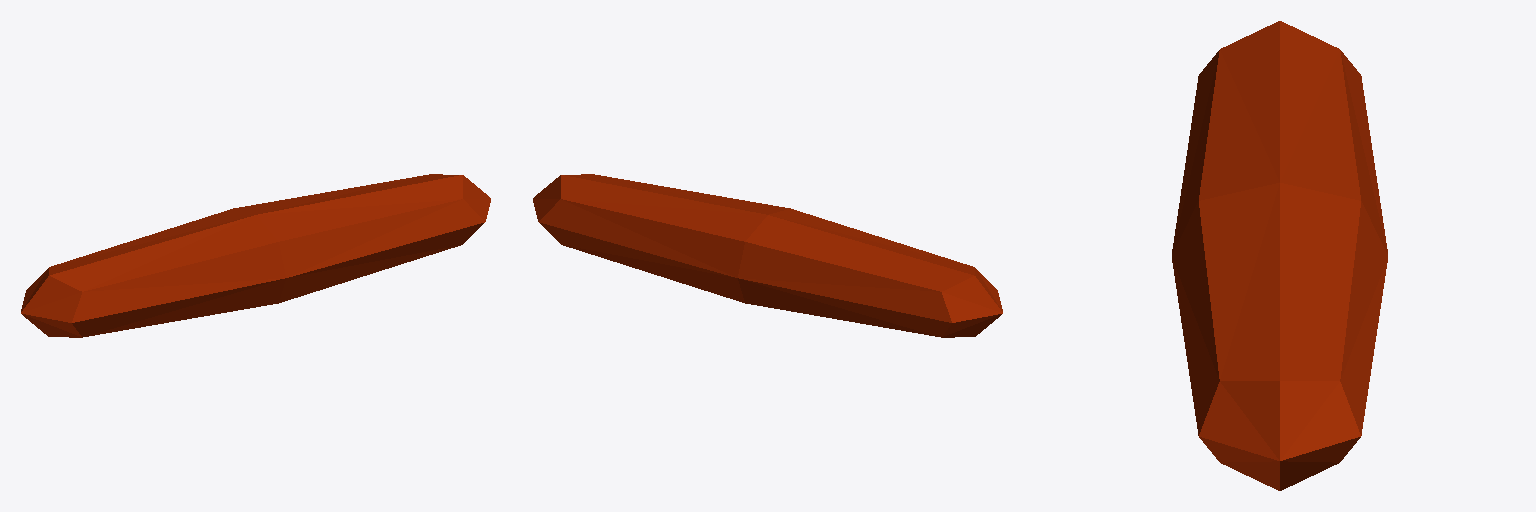
URDF robot description (bread):
<?xml version="1.0"?>

<robot name="bread">
  <link name="bread">
    <gravity>false</gravity>
    <inertial>
       <mass value="0.02"/>
       <inertia
        ixx="0.0007"
        ixy="0"
        ixz="0"
        iyy="0.0007"
        iyz="0"
        izz="0.007" />
    </inertial>
    <collision>
        <geometry><box size="0.0001 0.0001 0.0001" /></geometry>
          <surface>
            <contact>
              <collide_without_contact>true</collide_without_contact>
            </contact>
          </surface>
    </collision>
    <visual>
      <geometry>
        <mesh filename="package://pizza_demo/models/bread/meshes/bread.dae"/>
      </geometry>
    </visual>
  </link>
</robot>

--- Facts derived from the render (not from the file) ---
Views: 3 orthographic renders of the robot side by side, from view 1: azimuth 30°, elevation 25°; view 2: azimuth 150°, elevation 25°; view 3: azimuth 270°, elevation 25°.
Robot: bread — 1 links, 0 joints (none); root link bread; default pose: all joints at 0.
Links seen in each view (by area): view 1: bread; view 2: bread; view 3: bread.
Boxes of the visible links, x1=… form: bread: x1=21, y1=174, x2=490, y2=337; bread: x1=533, y1=174, x2=1002, y2=337; bread: x1=1172, y1=21, x2=1387, y2=490.
Bounding box of the posed robot: 0.3 × 0.067 × 0.05 m (x, y, z).
Meshes: 1 distinct files referenced, 1 mesh visuals loaded (1 Collada DAE).